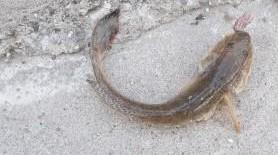fish: (86, 9, 251, 131)
